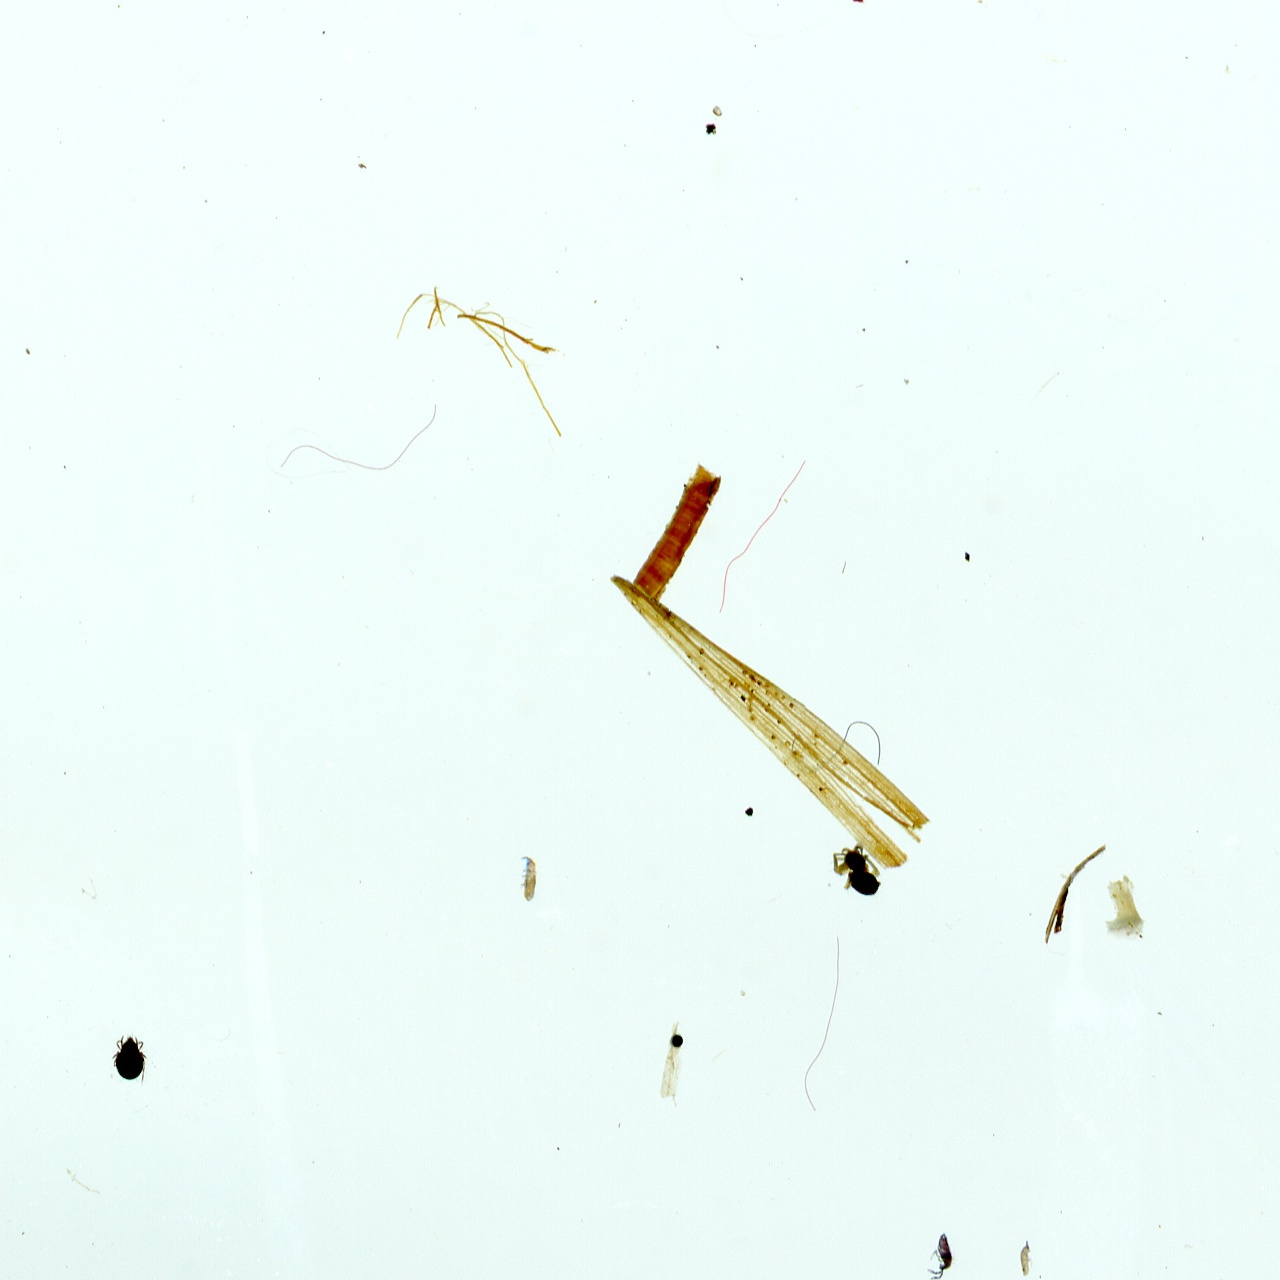arthropod: (826, 839, 891, 901), (104, 1032, 152, 1087), (924, 1224, 958, 1280), (797, 0, 888, 20), (519, 845, 542, 905), (1015, 1233, 1037, 1280)
